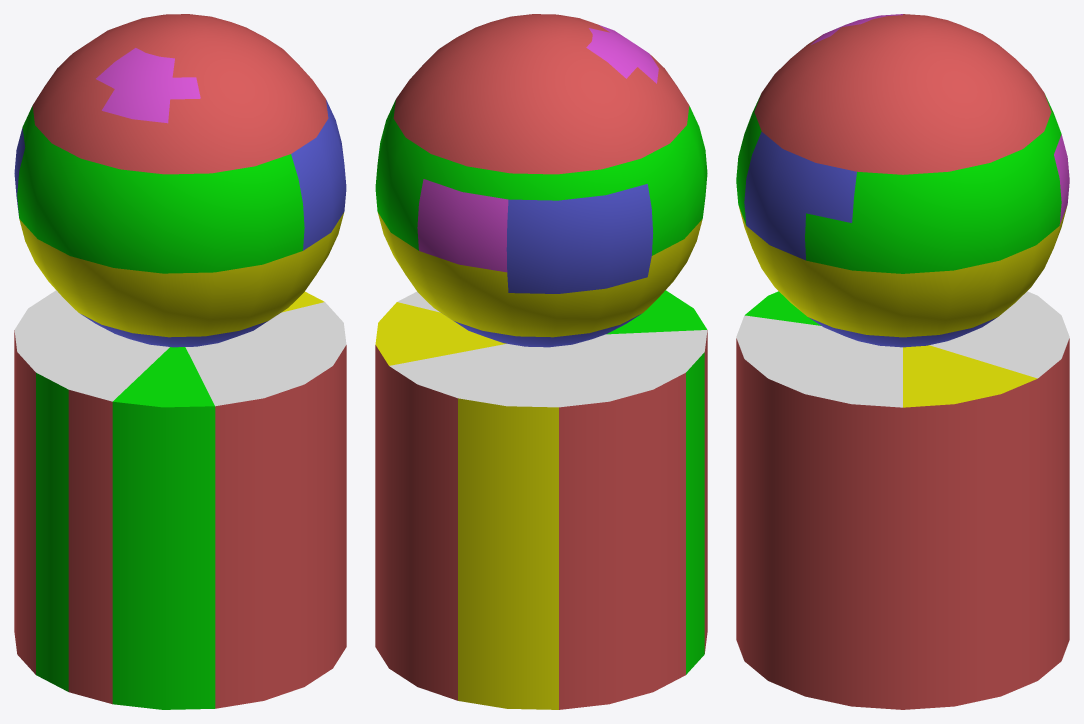
3 renders of one model, left to right at view 1: azimuth 30°, elevation 25°; view 2: azimuth 150°, elevation 25°; view 3: azimuth 270°, elevation 25°, orthographic.
Parts seen in each view (by area): view 1: pCylinder1, pSphere1; view 2: pCylinder1, pSphere1; view 3: pCylinder1, pSphere1.
Boxes of the visible parts, x1,y1,x2,y2 form: pCylinder1: (14,290,346,709); pSphere1: (14,14,346,347); pCylinder1: (375,290,707,709); pSphere1: (375,14,707,347); pCylinder1: (736,291,1069,709); pSphere1: (736,14,1069,347).
Bounding box in the file's own units: 2 × 4.04 × 2.
